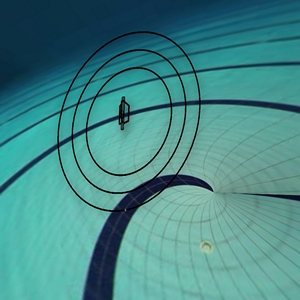circle: (48, 25, 209, 228)
submarine: (101, 91, 143, 141)
